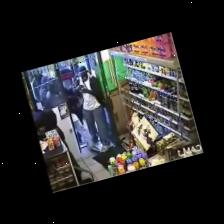person: (73, 66, 109, 152), (67, 97, 96, 150), (31, 109, 68, 149), (44, 78, 64, 109)
